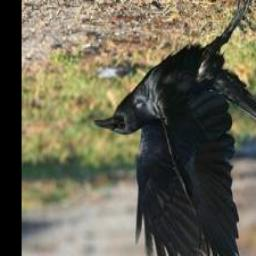Crow: (91, 0, 256, 256)
